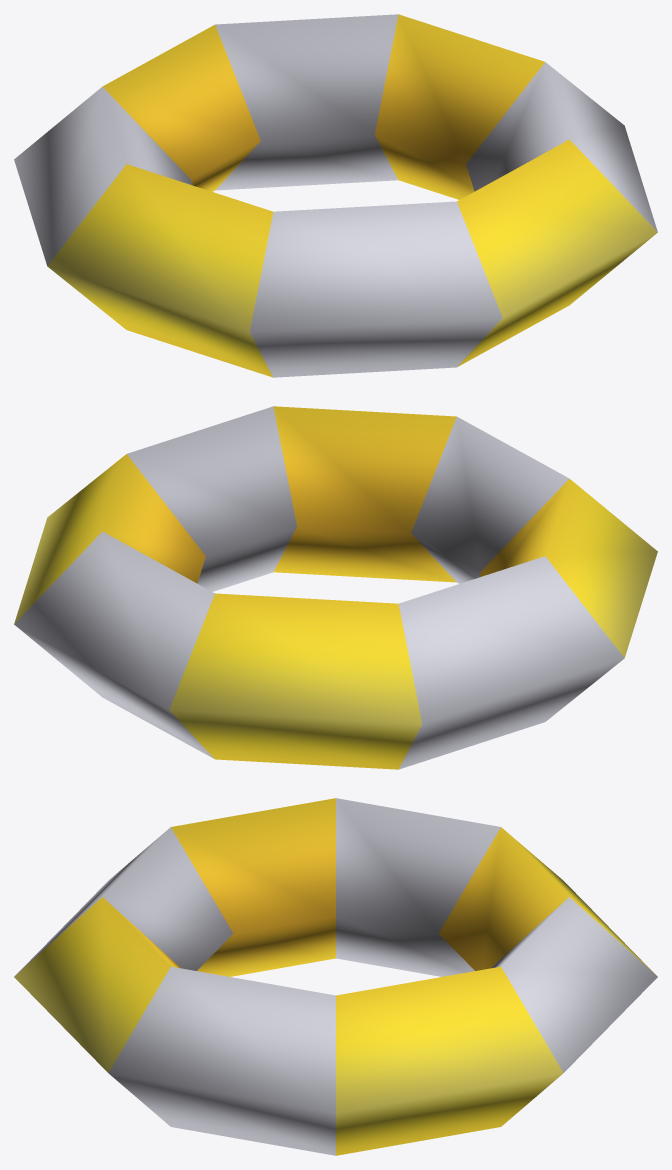
File: RubbeRing_06.fbx
3 views of the same model, one above another, from view 1: azimuth 30°, elevation 25°; view 2: azimuth 150°, elevation 25°; view 3: azimuth 270°, elevation 25° (orthographic). The views are drawn at different scales.
Visible parts, largest first — view 1: RubbeRing_06; view 2: RubbeRing_06; view 3: RubbeRing_06.
Part boxes in pixels (x1,y1,x2,y2): RubbeRing_06: [14, 14, 657, 377]; RubbeRing_06: [14, 406, 657, 769]; RubbeRing_06: [14, 798, 657, 1155].
Bounding box in the file's own units: 0.17 × 0.0467 × 0.17.
